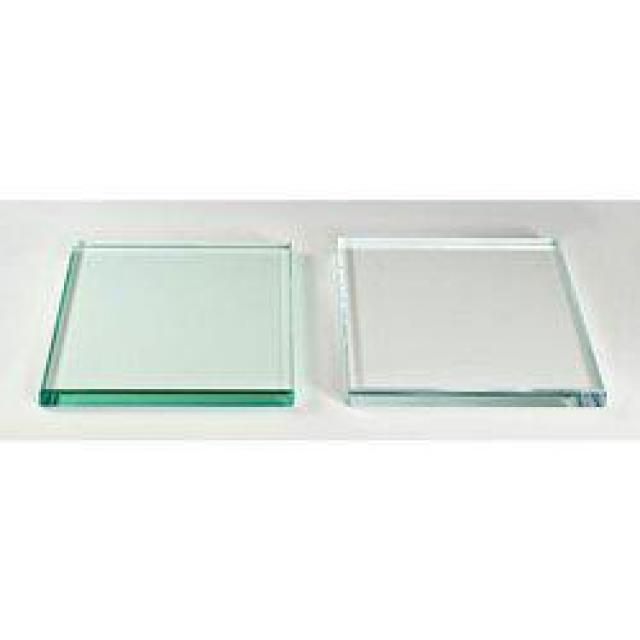non-organic waste: (36, 230, 304, 420)
